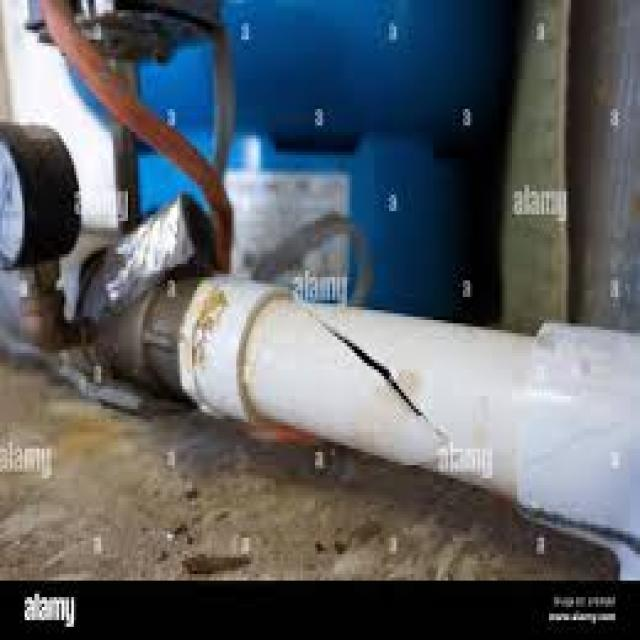crack: (306, 308, 439, 435)
